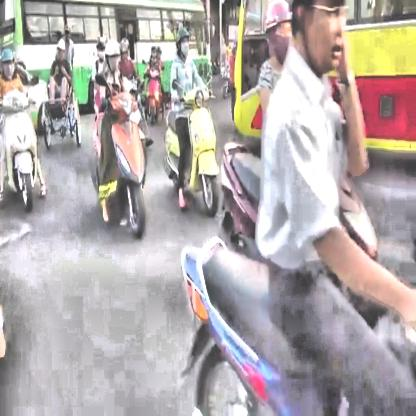wear: (266, 1, 294, 62), (105, 37, 122, 74), (175, 26, 192, 61), (1, 46, 17, 82), (56, 39, 67, 63)
